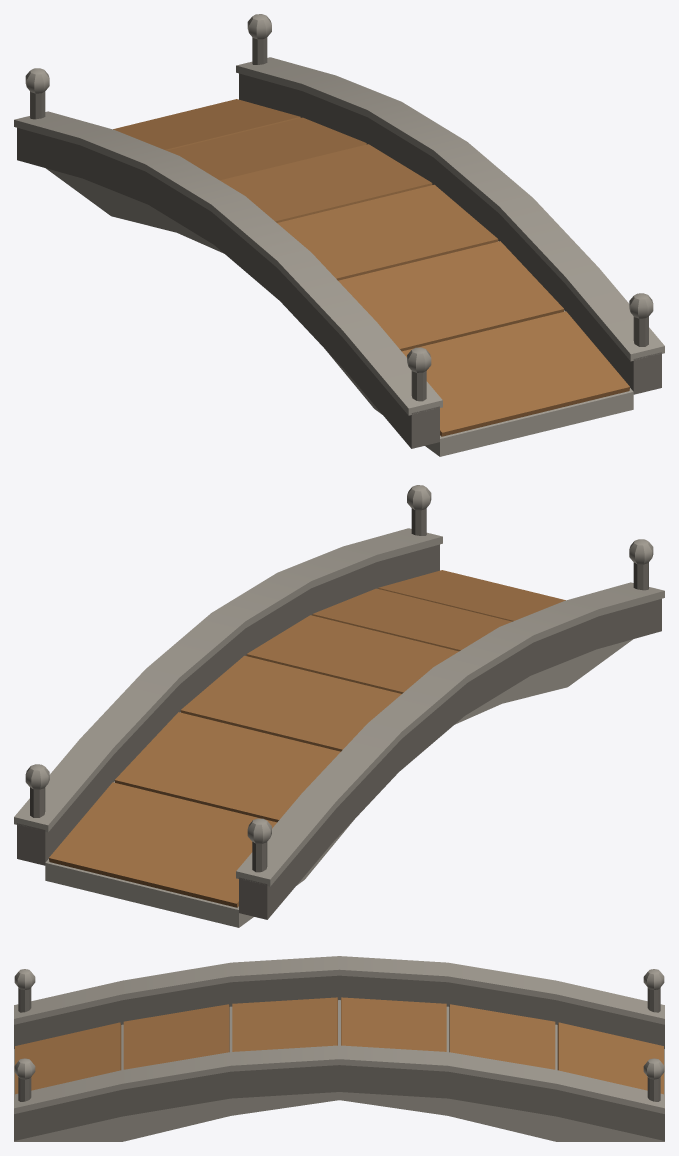
File: bridge.gltf
3 renders of one model, top to bottom at view 1: azimuth 30°, elevation 25°; view 2: azimuth 150°, elevation 25°; view 3: azimuth 270°, elevation 25°, orthographic. The views are drawn at different scales.
Visible parts, largest first — view 1: bridge; view 2: bridge; view 3: bridge.
Part boxes in pixels (box(x1,y1,x2,y2)): bridge: box(14, 14, 664, 456); bridge: box(14, 485, 664, 927); bridge: box(14, 956, 664, 1141).
Size of the model in its own units: 4.5 by 1.94 by 12.
